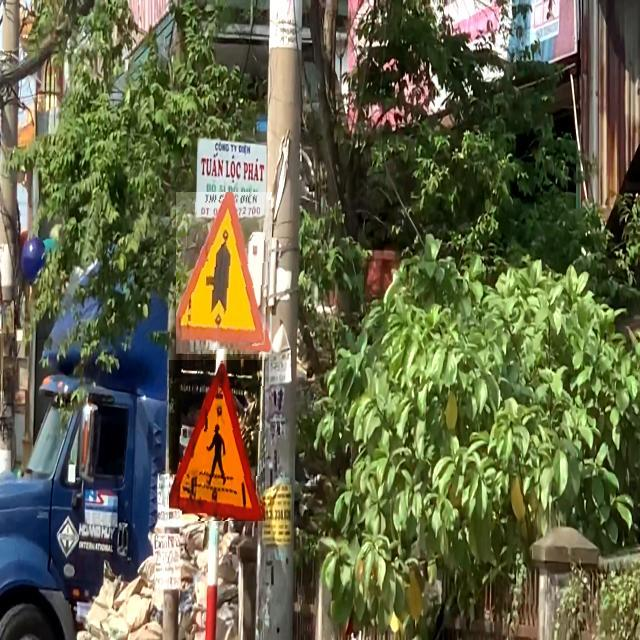W-207c: (176, 192, 272, 354)
W-224: (169, 360, 265, 521)
